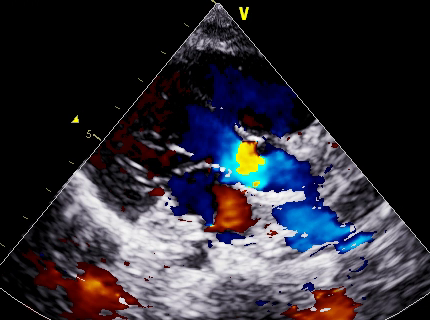MR: (151, 155, 214, 210)
